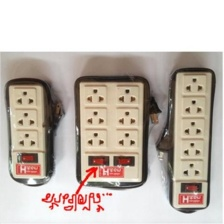three_eye_plug: (76, 78, 148, 184), (166, 69, 214, 210), (6, 80, 49, 182)
